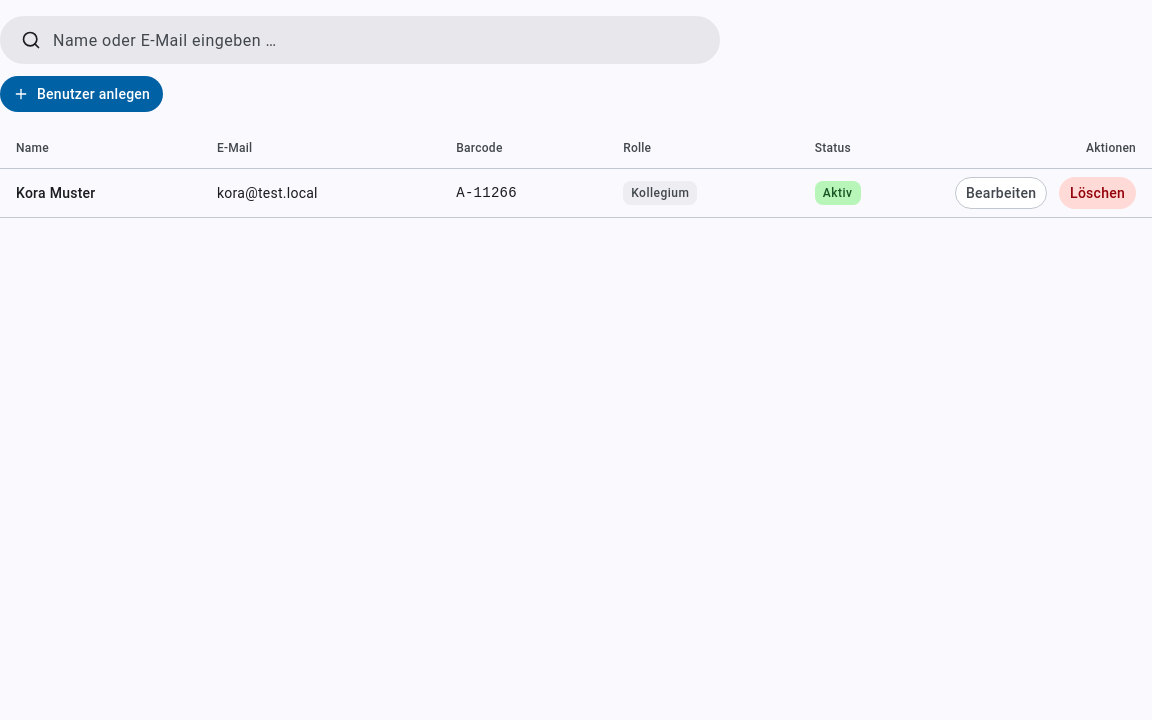
it: Benutzerliste: Meldungen › lässt den Dialog offen, wenn das Löschen scheitert, und nennt dort den Grund
Check: the table named "Benutzerkonten" is shown, box [0, 128, 1151, 218]
Step 1. Click the button "Löschen" → (1098, 192), box [1059, 176, 1136, 208]
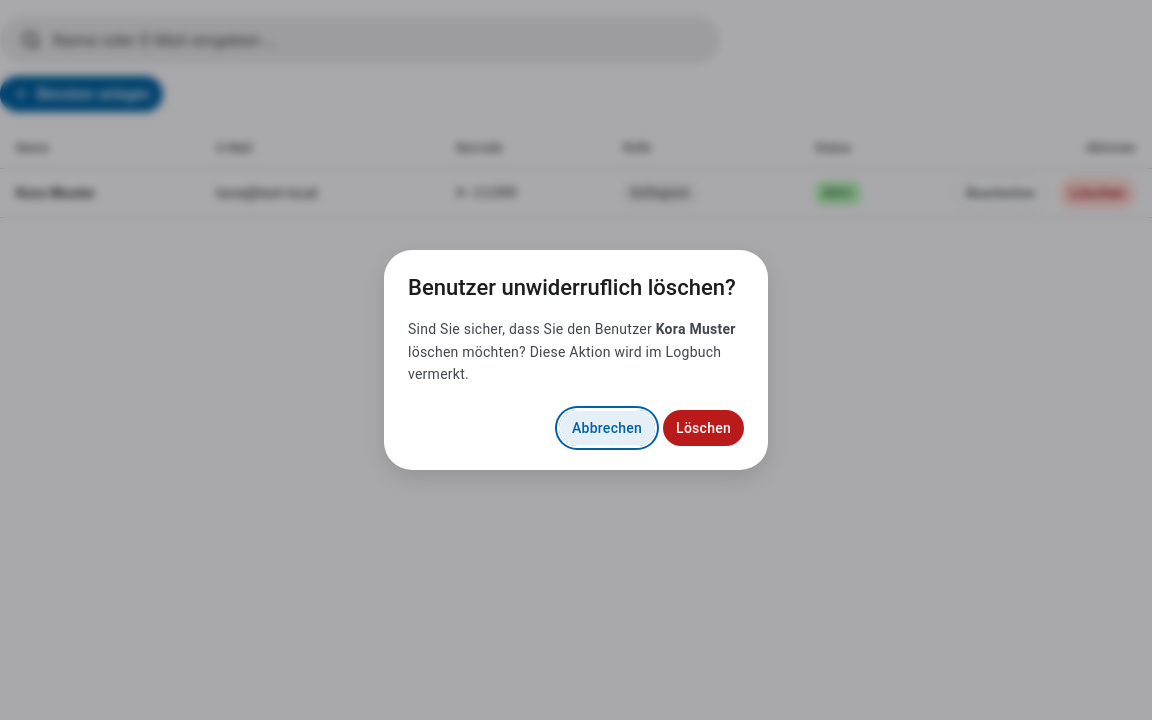
Step 2. Click the button "Löschen" → (704, 428), box [663, 410, 744, 446]
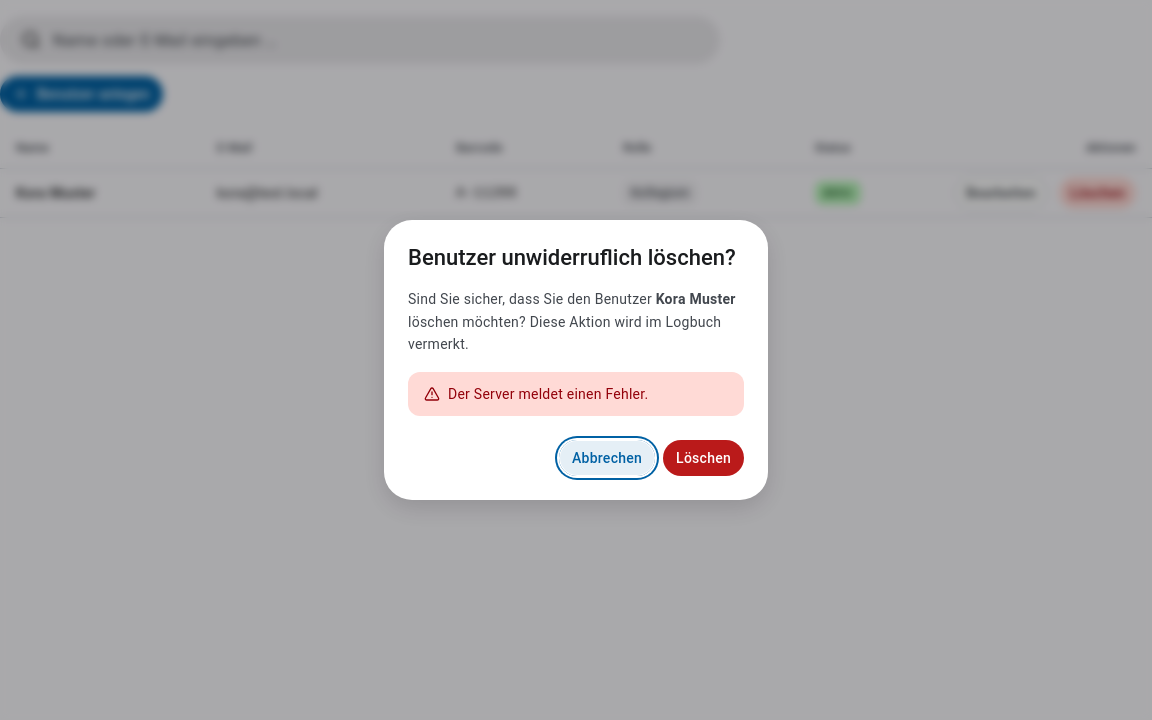
Check: the message reads "Der Server meldet einen Fehler.", box [448, 386, 648, 402]
